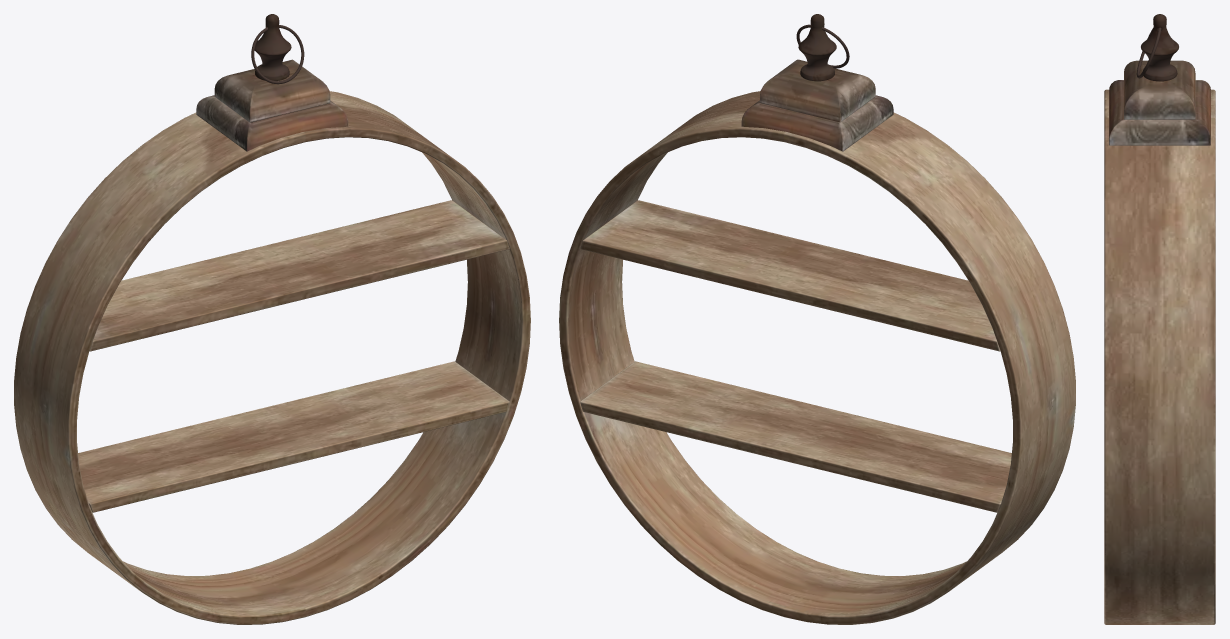
The model's file is abo-B07HSJYKXY.glb.
The picture shows the model from 3 angles, left to right: view 1: azimuth 30°, elevation 25°; view 2: azimuth 150°, elevation 25°; view 3: azimuth 270°, elevation 25°; orthographic projection.
Bounding box in the file's own units: 0.601 × 0.725 × 0.125.
Materials: 1 (1 with a texture image).
